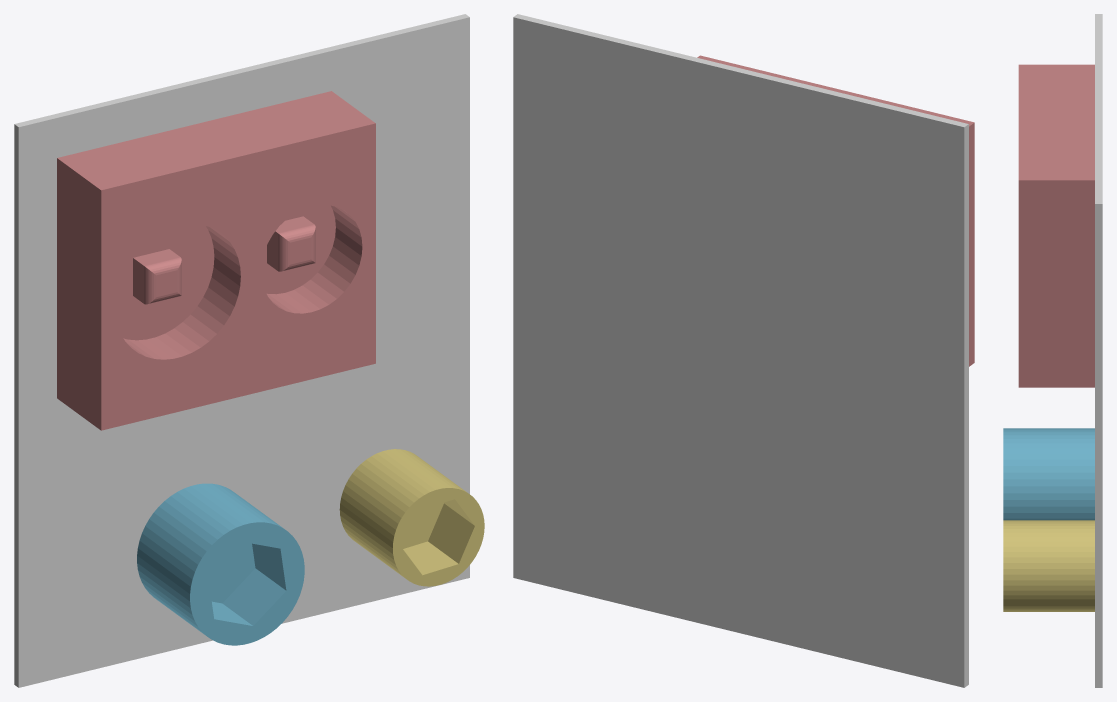
File: pickup_layout.glb
The picture shows the model from 3 angles, left to right: view 1: azimuth 30°, elevation 25°; view 2: azimuth 150°, elevation 25°; view 3: azimuth 270°, elevation 25°; orthographic projection. The views are drawn at different scales.
Parts seen in each view (by area): view 1: world, 0.obj, 2.obj, 1.obj; view 2: world, 0.obj; view 3: 0.obj, 2.obj, 1.obj, world.
Boxes of the visible parts, x1=… form: world: x1=14, y1=14, x2=469, y2=687; 0.obj: x1=57, y1=91, x2=375, y2=430; 2.obj: x1=137, y1=483, x2=304, y2=645; 1.obj: x1=339, y1=449, x2=484, y2=586; world: x1=513, y1=14, x2=968, y2=687; 0.obj: x1=697, y1=55, x2=974, y2=366; 0.obj: x1=1018, y1=64, x2=1094, y2=387; 2.obj: x1=1003, y1=428, x2=1094, y2=520; 1.obj: x1=1003, y1=520, x2=1094, y2=611; world: x1=1095, y1=14, x2=1102, y2=687.
Size of the model in its own units: 11.79 by 14 by 2.6.
